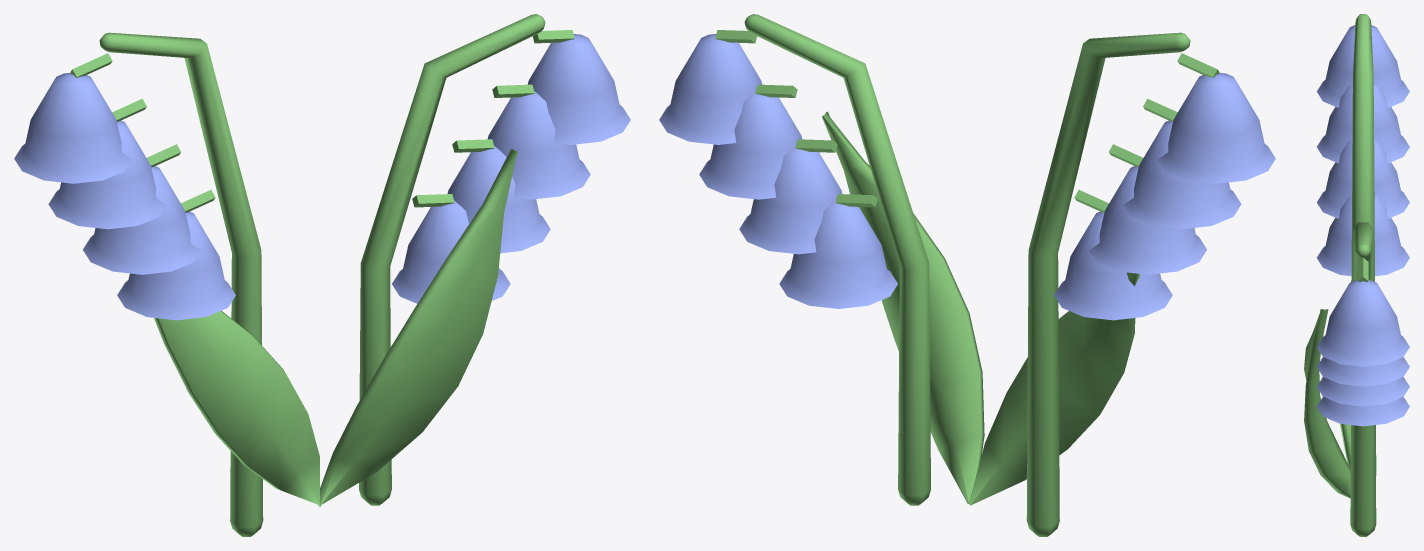
Rendered from flower_b.glb.
The picture shows the model from 3 angles, left to right: view 1: azimuth 30°, elevation 25°; view 2: azimuth 150°, elevation 25°; view 3: azimuth 270°, elevation 25°; orthographic projection. The views are drawn at different scales.
Visible parts, largest first — view 1: flower_b; view 2: flower_b; view 3: flower_b.
Boxes of the visible parts, x1,y1,x2,y2 form: flower_b: (14,14,630,536); flower_b: (659,14,1275,536); flower_b: (1304,14,1409,536).
Bounding box in the file's own units: 0.42 × 0.3572 × 0.0818.
